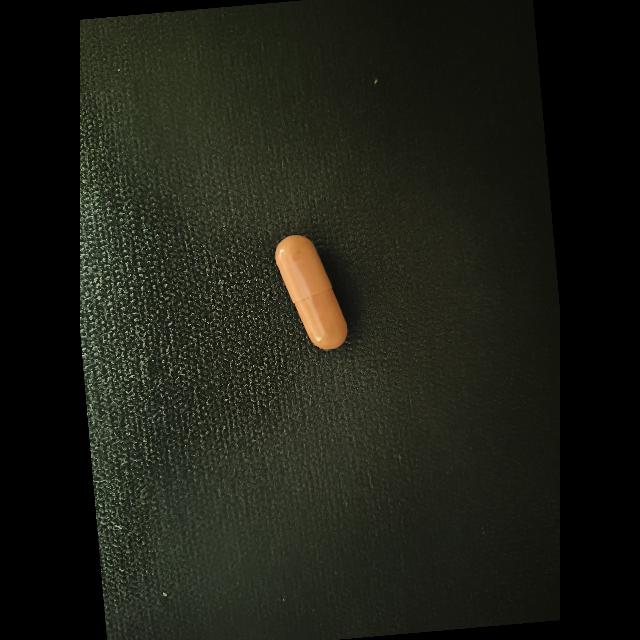Intact Capsule: (275, 235, 347, 350)
